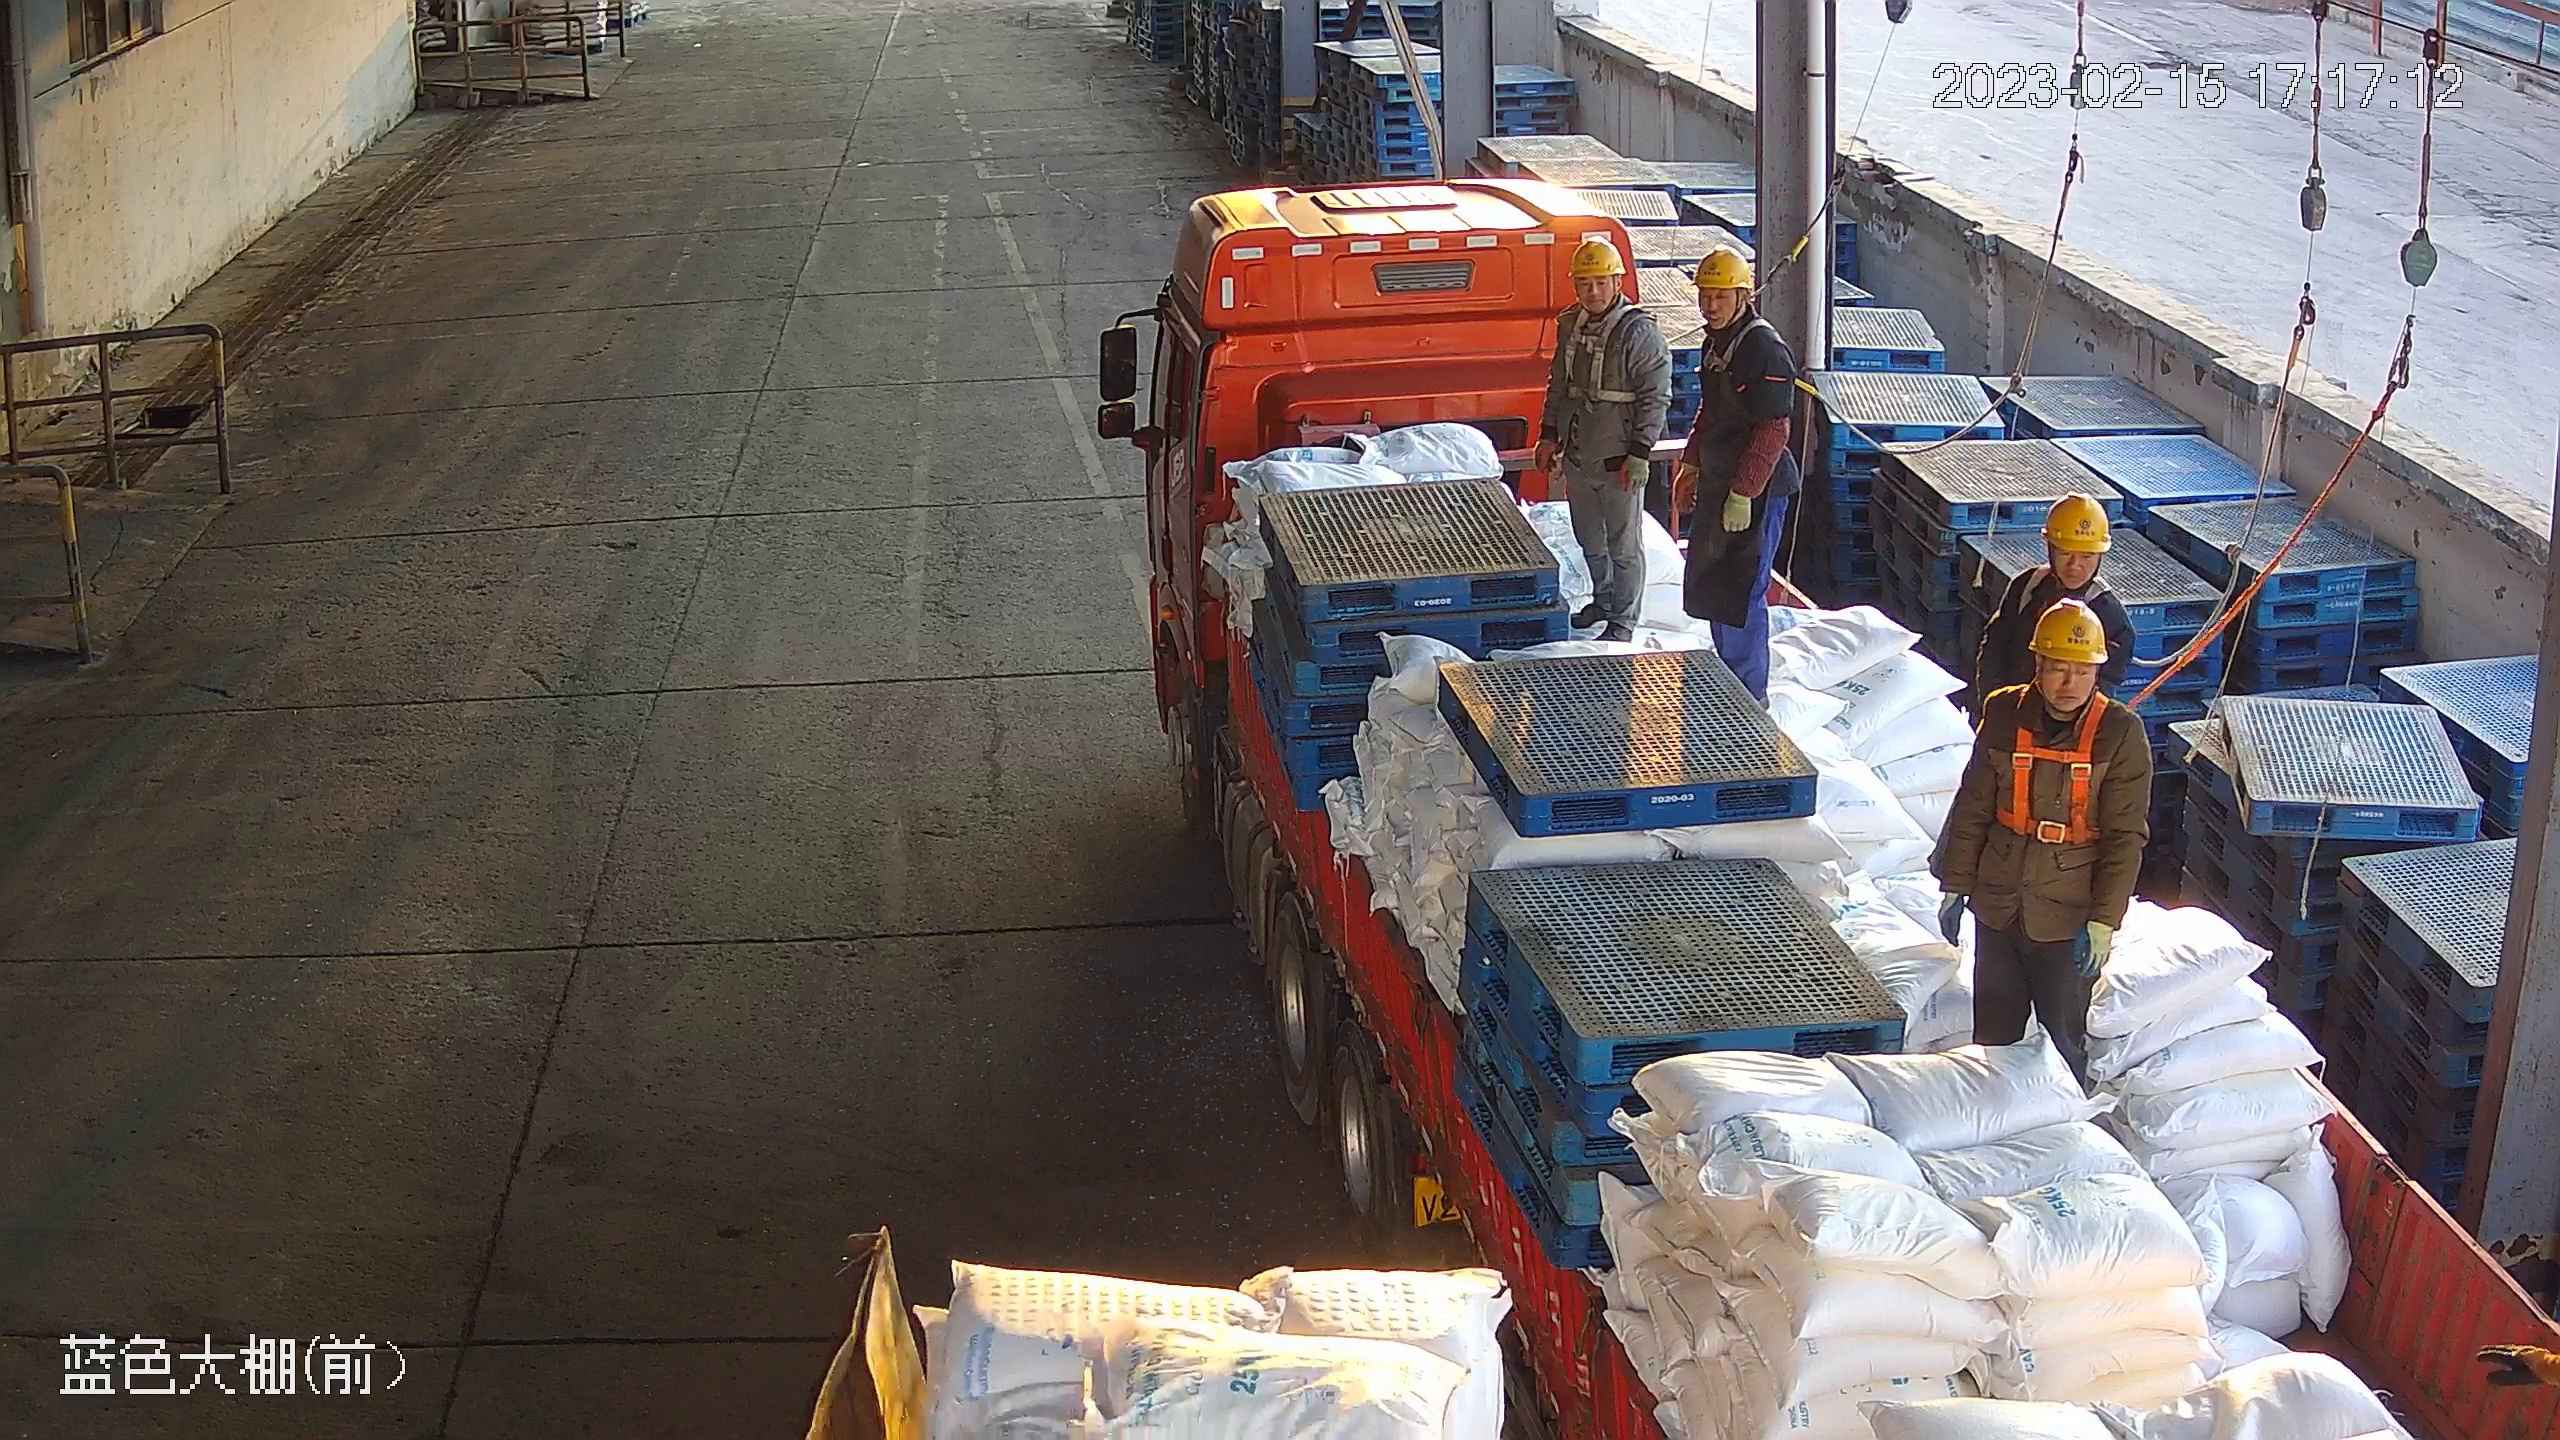belt: (2003, 703, 2107, 857), (1559, 292, 1648, 414), (2018, 550, 2110, 618), (1703, 320, 1788, 364)
head: (1957, 595, 2151, 762), (1677, 244, 1796, 382), (1555, 238, 1670, 362)
helmet: (2023, 597, 2127, 671), (2040, 481, 2125, 557), (1570, 240, 1631, 286), (1694, 249, 1759, 294)
people: (1936, 595, 2159, 1097), (1666, 240, 1801, 705), (1541, 235, 1675, 653)
truck: (1099, 168, 2560, 1440)
